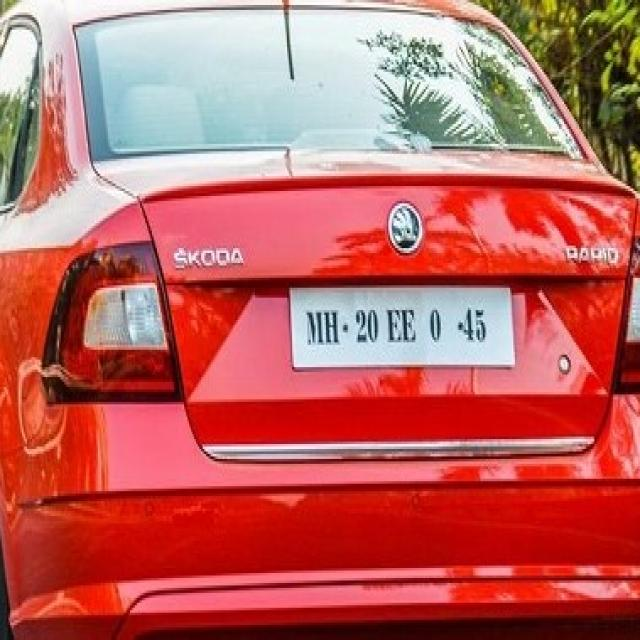license-plate: (286, 282, 514, 364)
